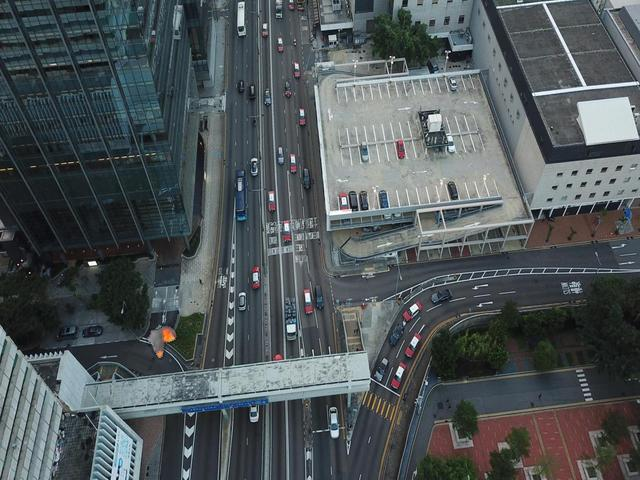fire: (146, 323, 178, 359)
